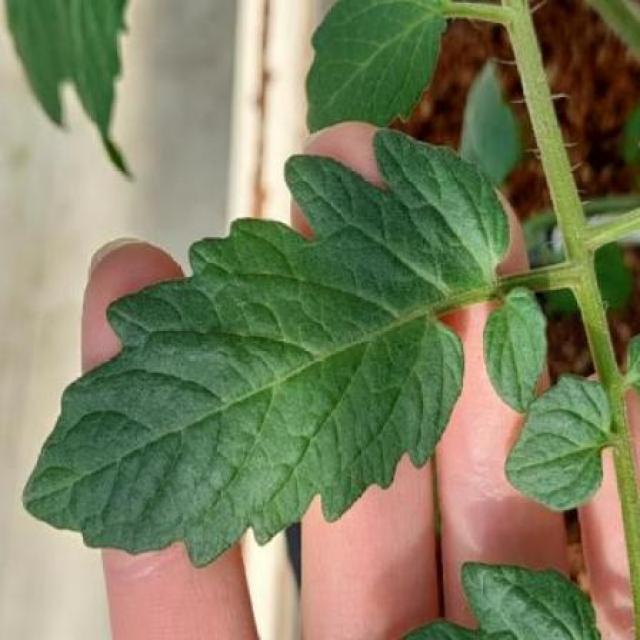Healthy: (22, 129, 509, 568), (505, 374, 612, 512), (483, 287, 547, 412)
